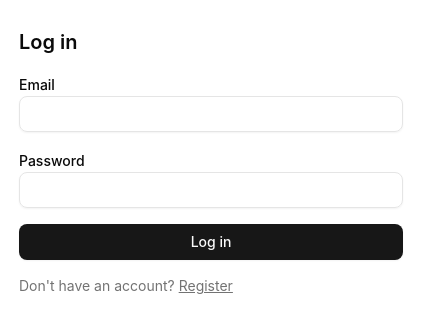
Test: LoginPage › shows an inline error for invalid credentials without navigating
Type "user@example.com" into the field labelled "Email" at (211, 114), box [19,96,403,132]
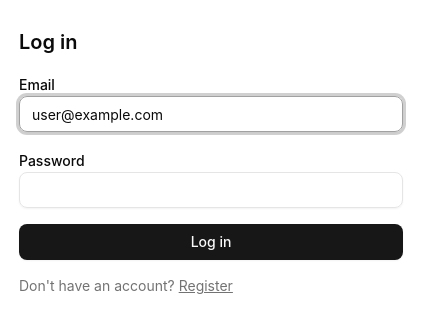
Type "wrong-password" into the password field labelled "Password" at (211, 190), box [19,172,403,208]
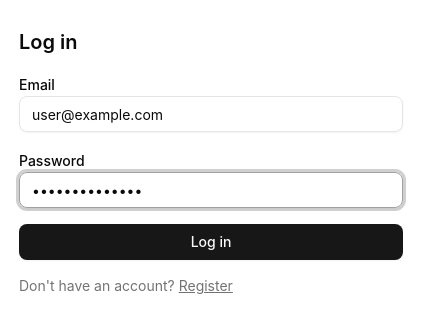
Click the button "Log in" at (211, 242), box [19,224,403,260]
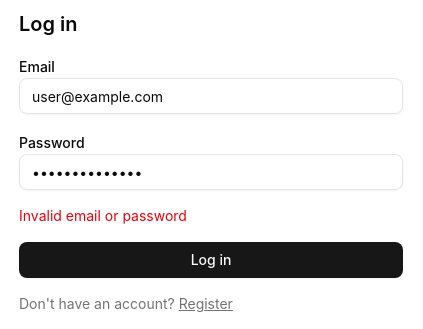
Result: the message reads "Invalid email or password" at [19,207,187,224]
